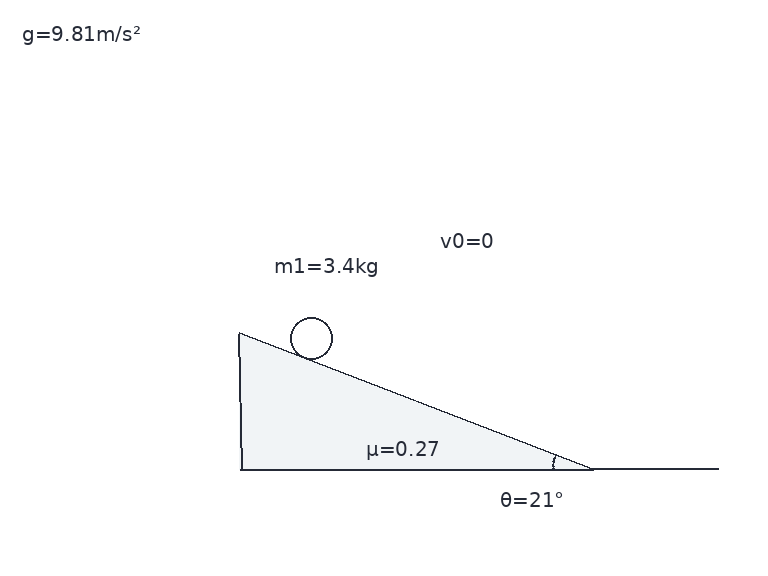ball: (288, 315, 334, 361)
ramp: (237, 331, 595, 471)
